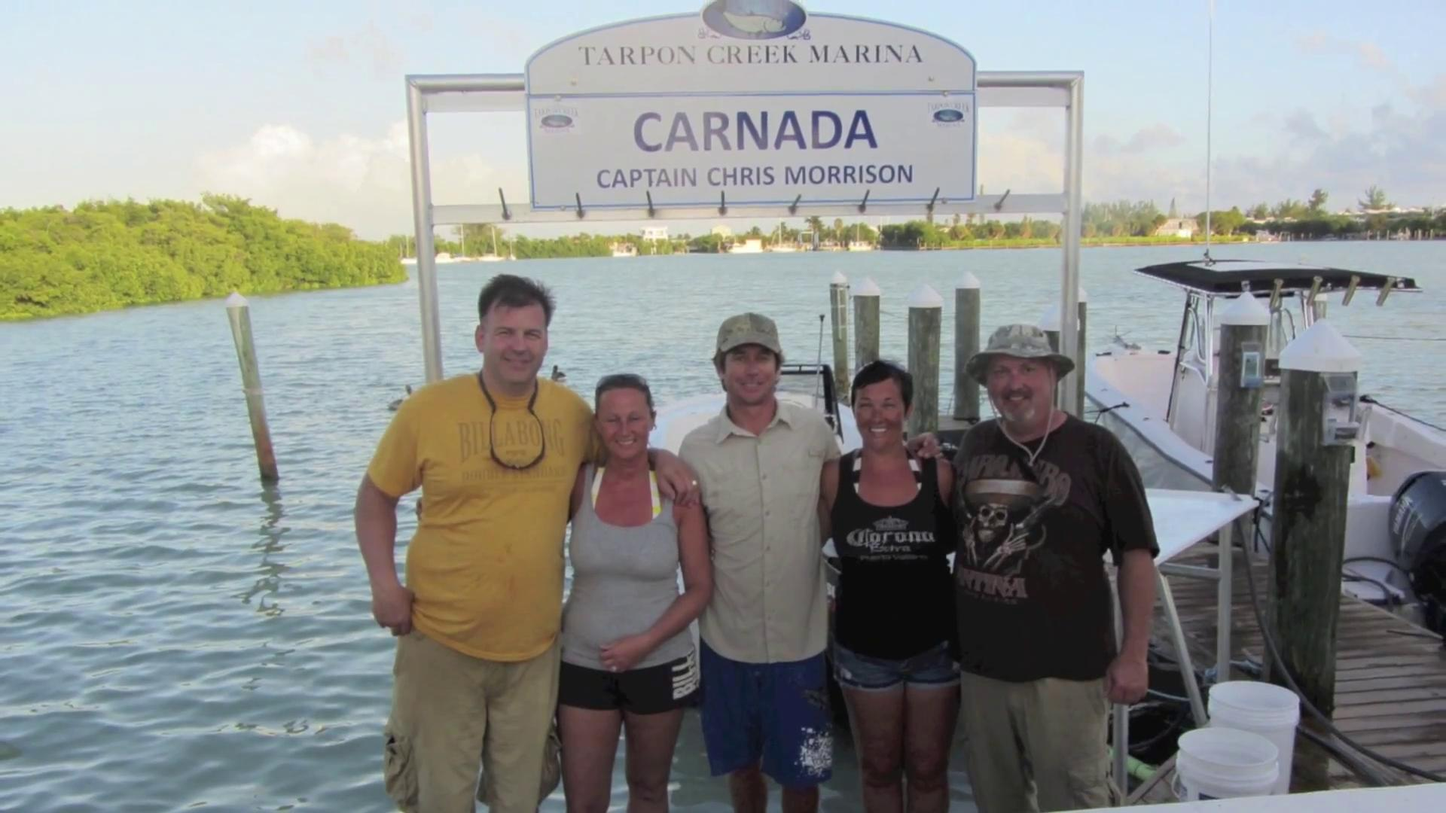victim: (340, 271, 629, 812), (955, 318, 1165, 813), (669, 308, 850, 812), (529, 371, 720, 813), (814, 355, 973, 813)
